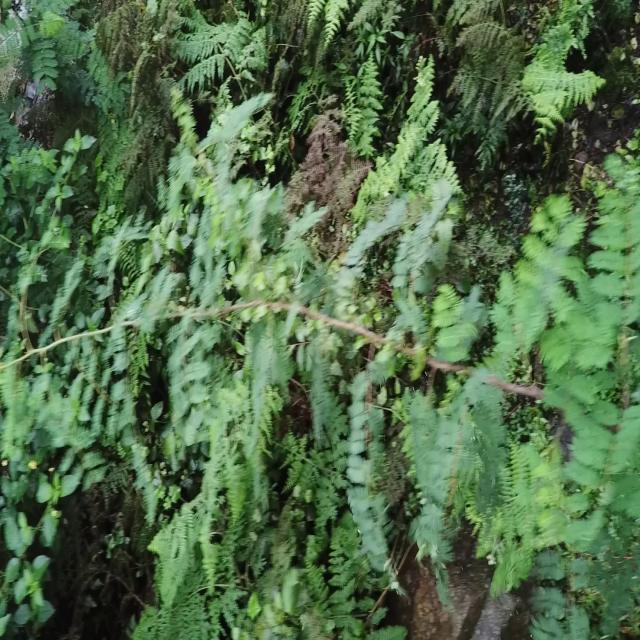Mysore-Thorn-Weed: (122, 164, 640, 548), (0, 0, 89, 92)
